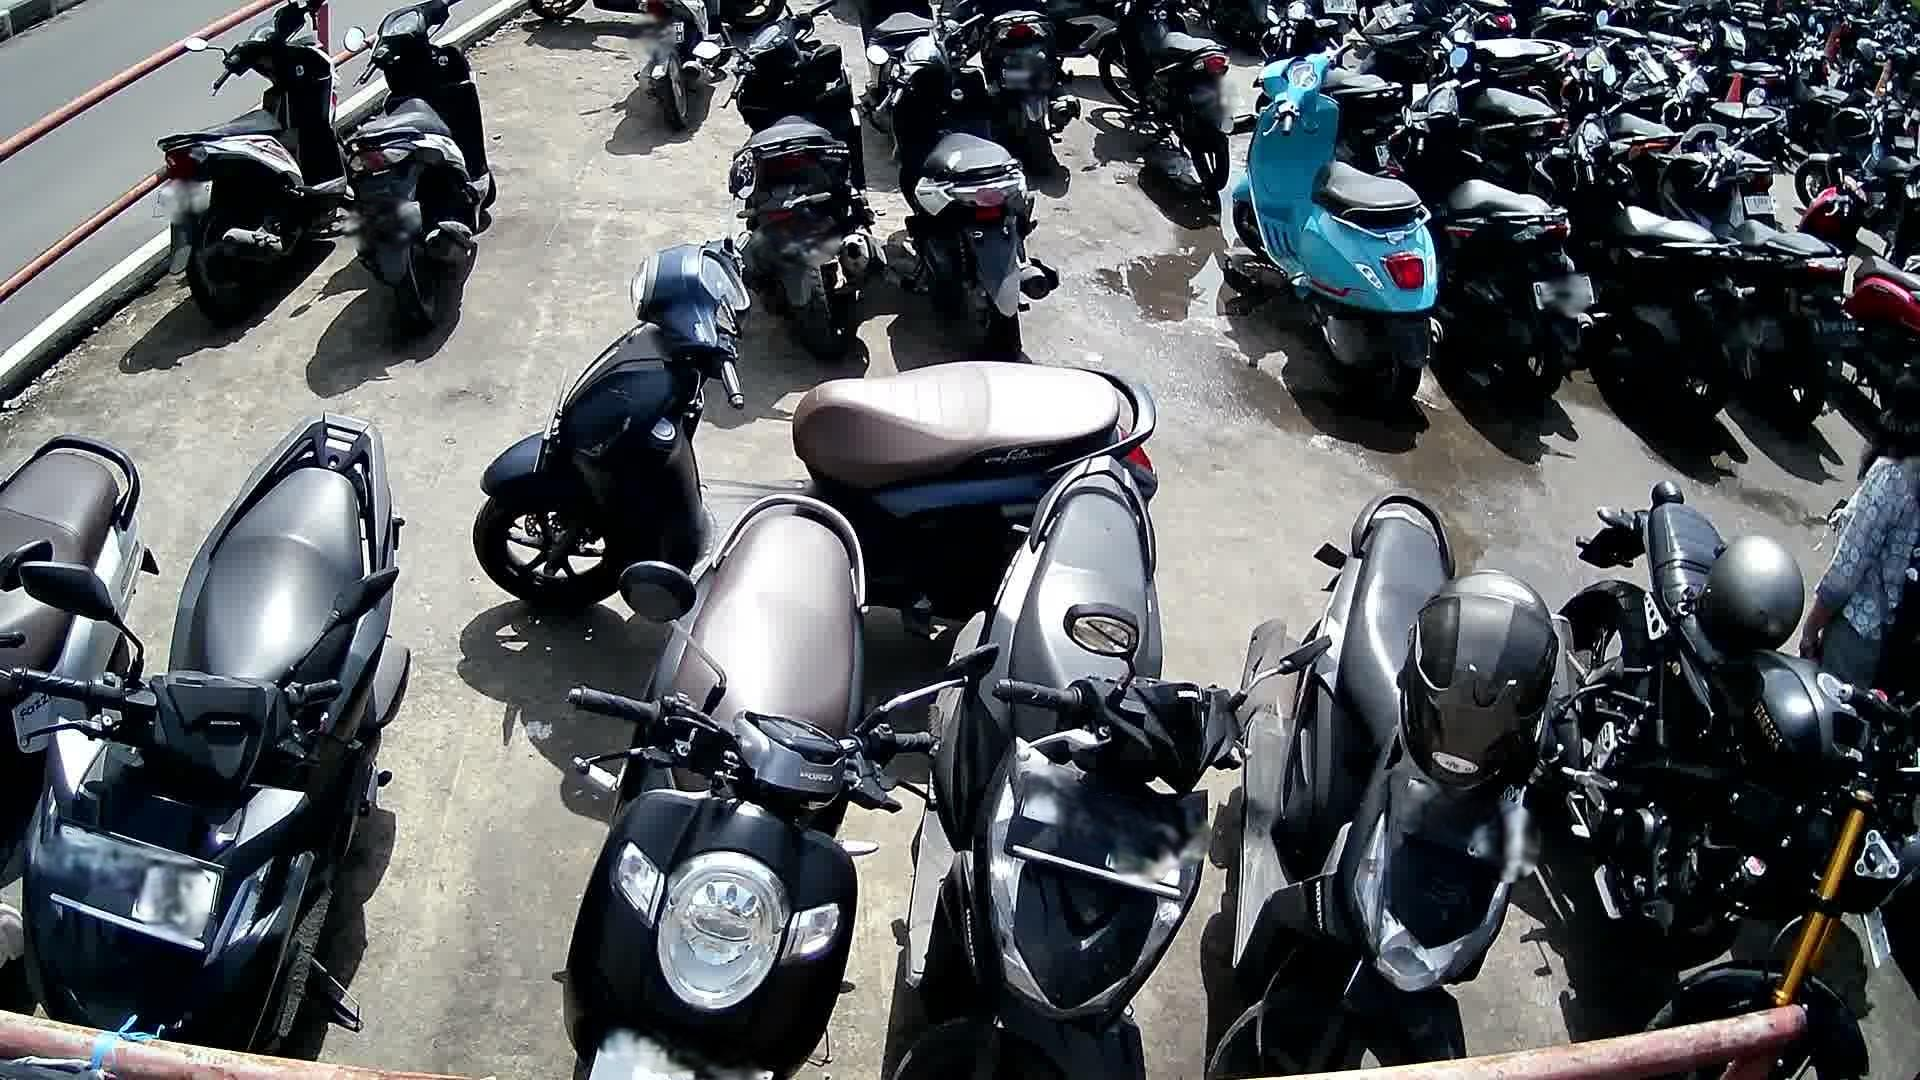motorcycle: (468, 224, 1163, 620), (7, 411, 413, 1060), (895, 455, 1287, 1080), (564, 493, 968, 1080), (1553, 479, 1920, 1080), (1204, 492, 1564, 1080), (0, 431, 160, 972), (1230, 37, 1445, 422), (1385, 44, 1594, 409), (1642, 84, 1861, 431), (862, 1, 1065, 360), (1528, 99, 1753, 422), (692, 0, 890, 361), (156, 0, 342, 326), (343, 0, 500, 330), (1793, 160, 1920, 434)
